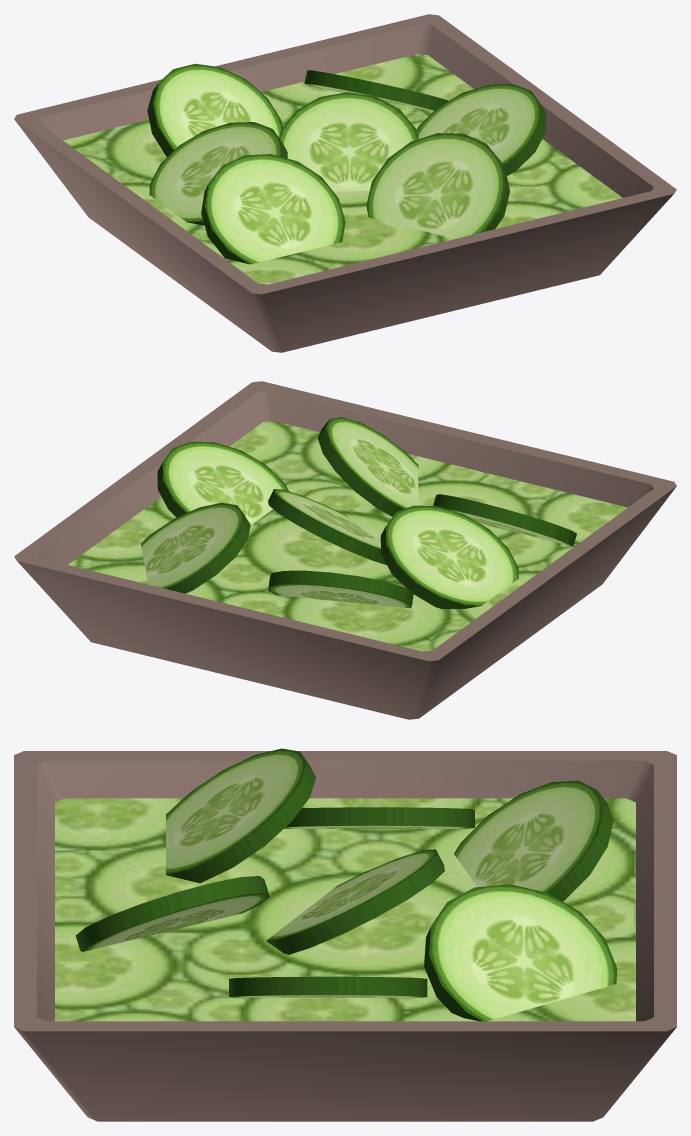
The model's file is CucumberTray.glb.
3 views of the same model, one above another, from view 1: azimuth 30°, elevation 25°; view 2: azimuth 150°, elevation 25°; view 3: azimuth 270°, elevation 25° (orthographic). The views are drawn at different scales.
Parts seen in each view (by area): view 1: CucumberTray; view 2: CucumberTray; view 3: CucumberTray.
Part boxes in pixels (x1,y1,x2,y2): CucumberTray: (14,14,676,352); CucumberTray: (14,381,676,719); CucumberTray: (14,748,676,1121).
Size of what is drawn, in the model's own units: 0.7422 by 0.2165 by 0.7422.
2 materials, 2 textured.
